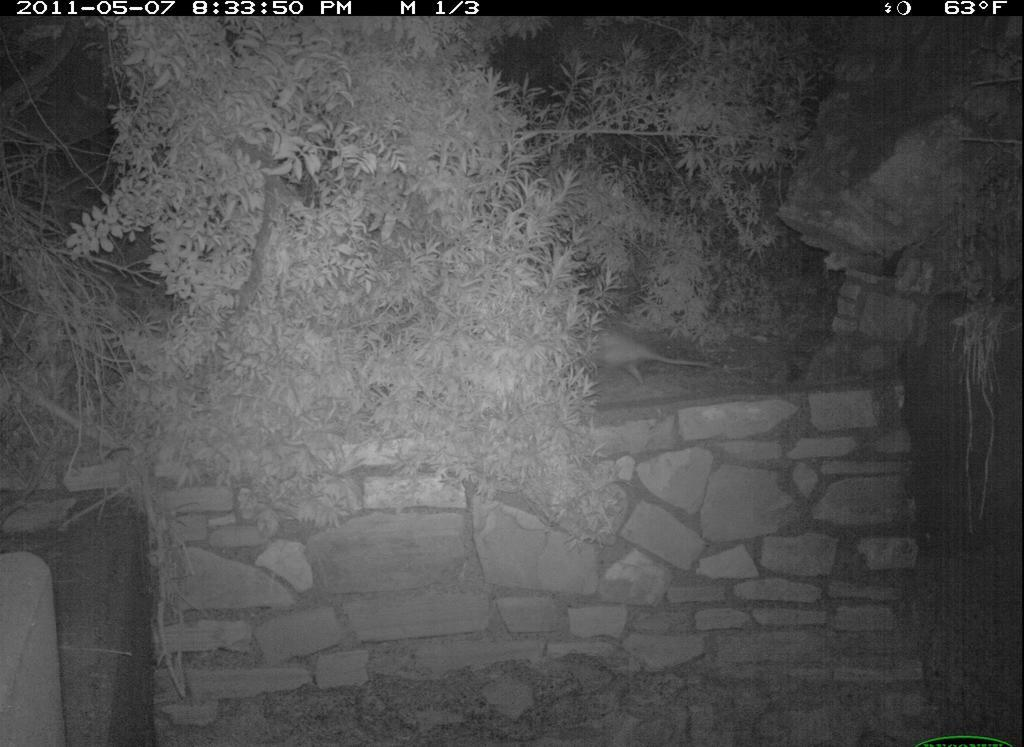opossum: (565, 300, 761, 397)
